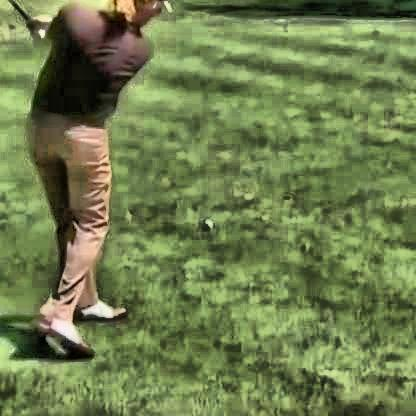golfball: (201, 219, 212, 226)
